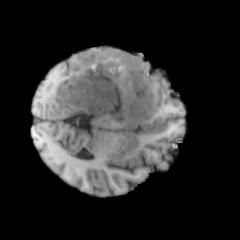glioma: (42, 48, 158, 122)
